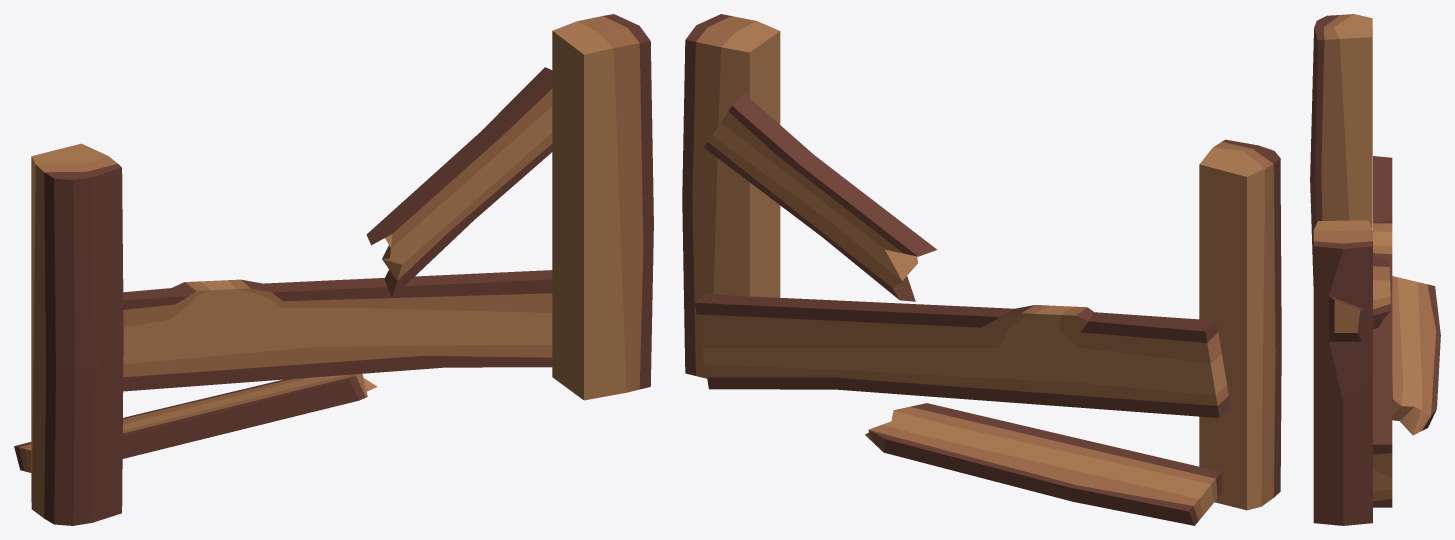
Rendered from fence_plank_destroyed.fbx.
3 renders of one model, left to right at view 1: azimuth 30°, elevation 25°; view 2: azimuth 150°, elevation 25°; view 3: azimuth 270°, elevation 25°, orthographic. The views are drawn at different scales.
Visible parts, largest first — view 1: fence_plank_destroyed; view 2: fence_plank_destroyed; view 3: fence_plank_destroyed.
Boxes of the visible parts, left/top/right/bottom form: fence_plank_destroyed: left=14, top=14, right=653, bottom=525; fence_plank_destroyed: left=682, top=14, right=1281, bottom=525; fence_plank_destroyed: left=1310, top=14, right=1440, bottom=525.
Bounding box in the file's own units: 126 × 69.46 × 29.51.
